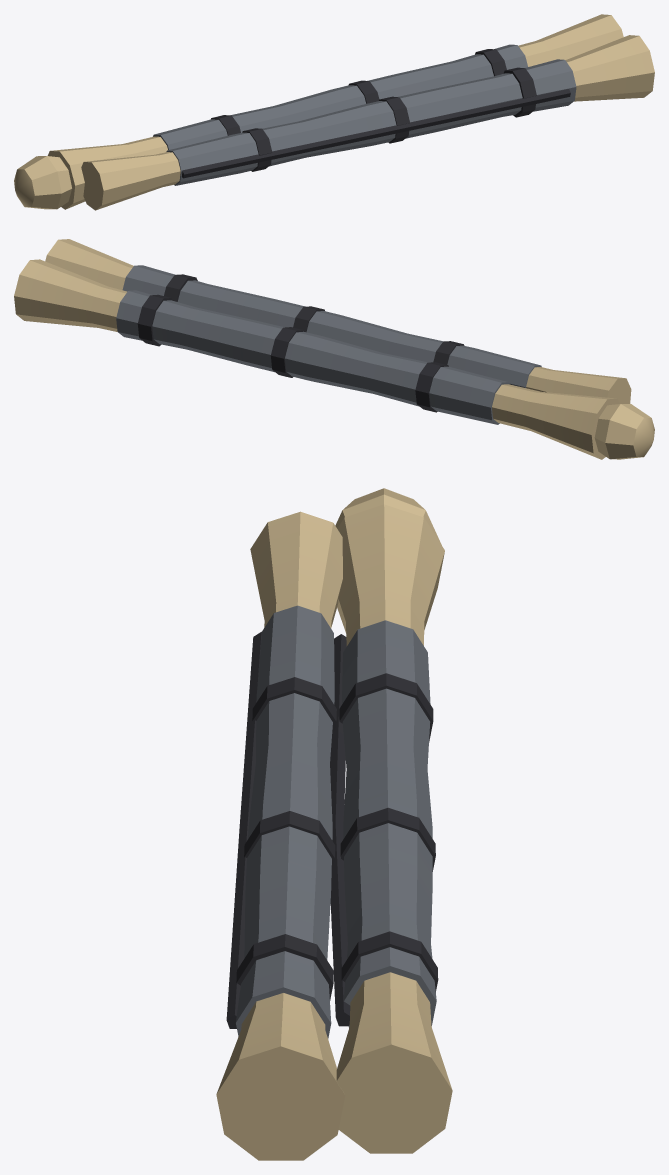
The model's file is cc_forearm.glb.
The picture shows the model from 3 angles, top to bottom: view 1: azimuth 30°, elevation 25°; view 2: azimuth 150°, elevation 25°; view 3: azimuth 270°, elevation 25°; orthographic projection. The views are drawn at different scales.
Parts seen in each view (by area): view 1: teil1, teil0, teil2; view 2: teil1, teil0, teil2; view 3: teil1, teil0, teil2.
Boxes of the visible parts, box(x1,y1,x2,y2) form: teil1: box(153, 44, 576, 185); teil0: box(14, 14, 654, 210); teil2: box(182, 49, 570, 178); teil1: box(116, 265, 541, 424); teil0: box(14, 239, 654, 459); teil2: box(137, 274, 464, 412); teil1: box(236, 605, 436, 1038); teil0: box(216, 488, 452, 1160); teil2: box(226, 632, 438, 1028).
Bounding box in the file's own units: 0.5626 × 0.0538 × 0.0961.
